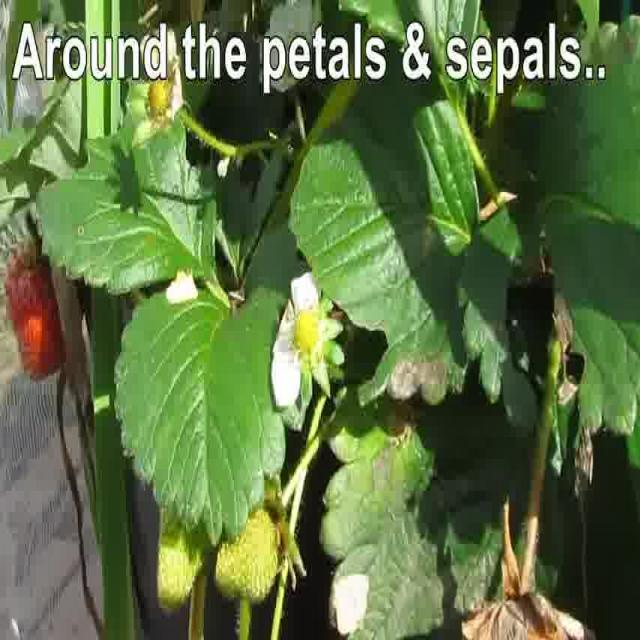Fruta sana: (144, 470, 210, 617), (3, 243, 68, 385), (216, 490, 290, 602)
